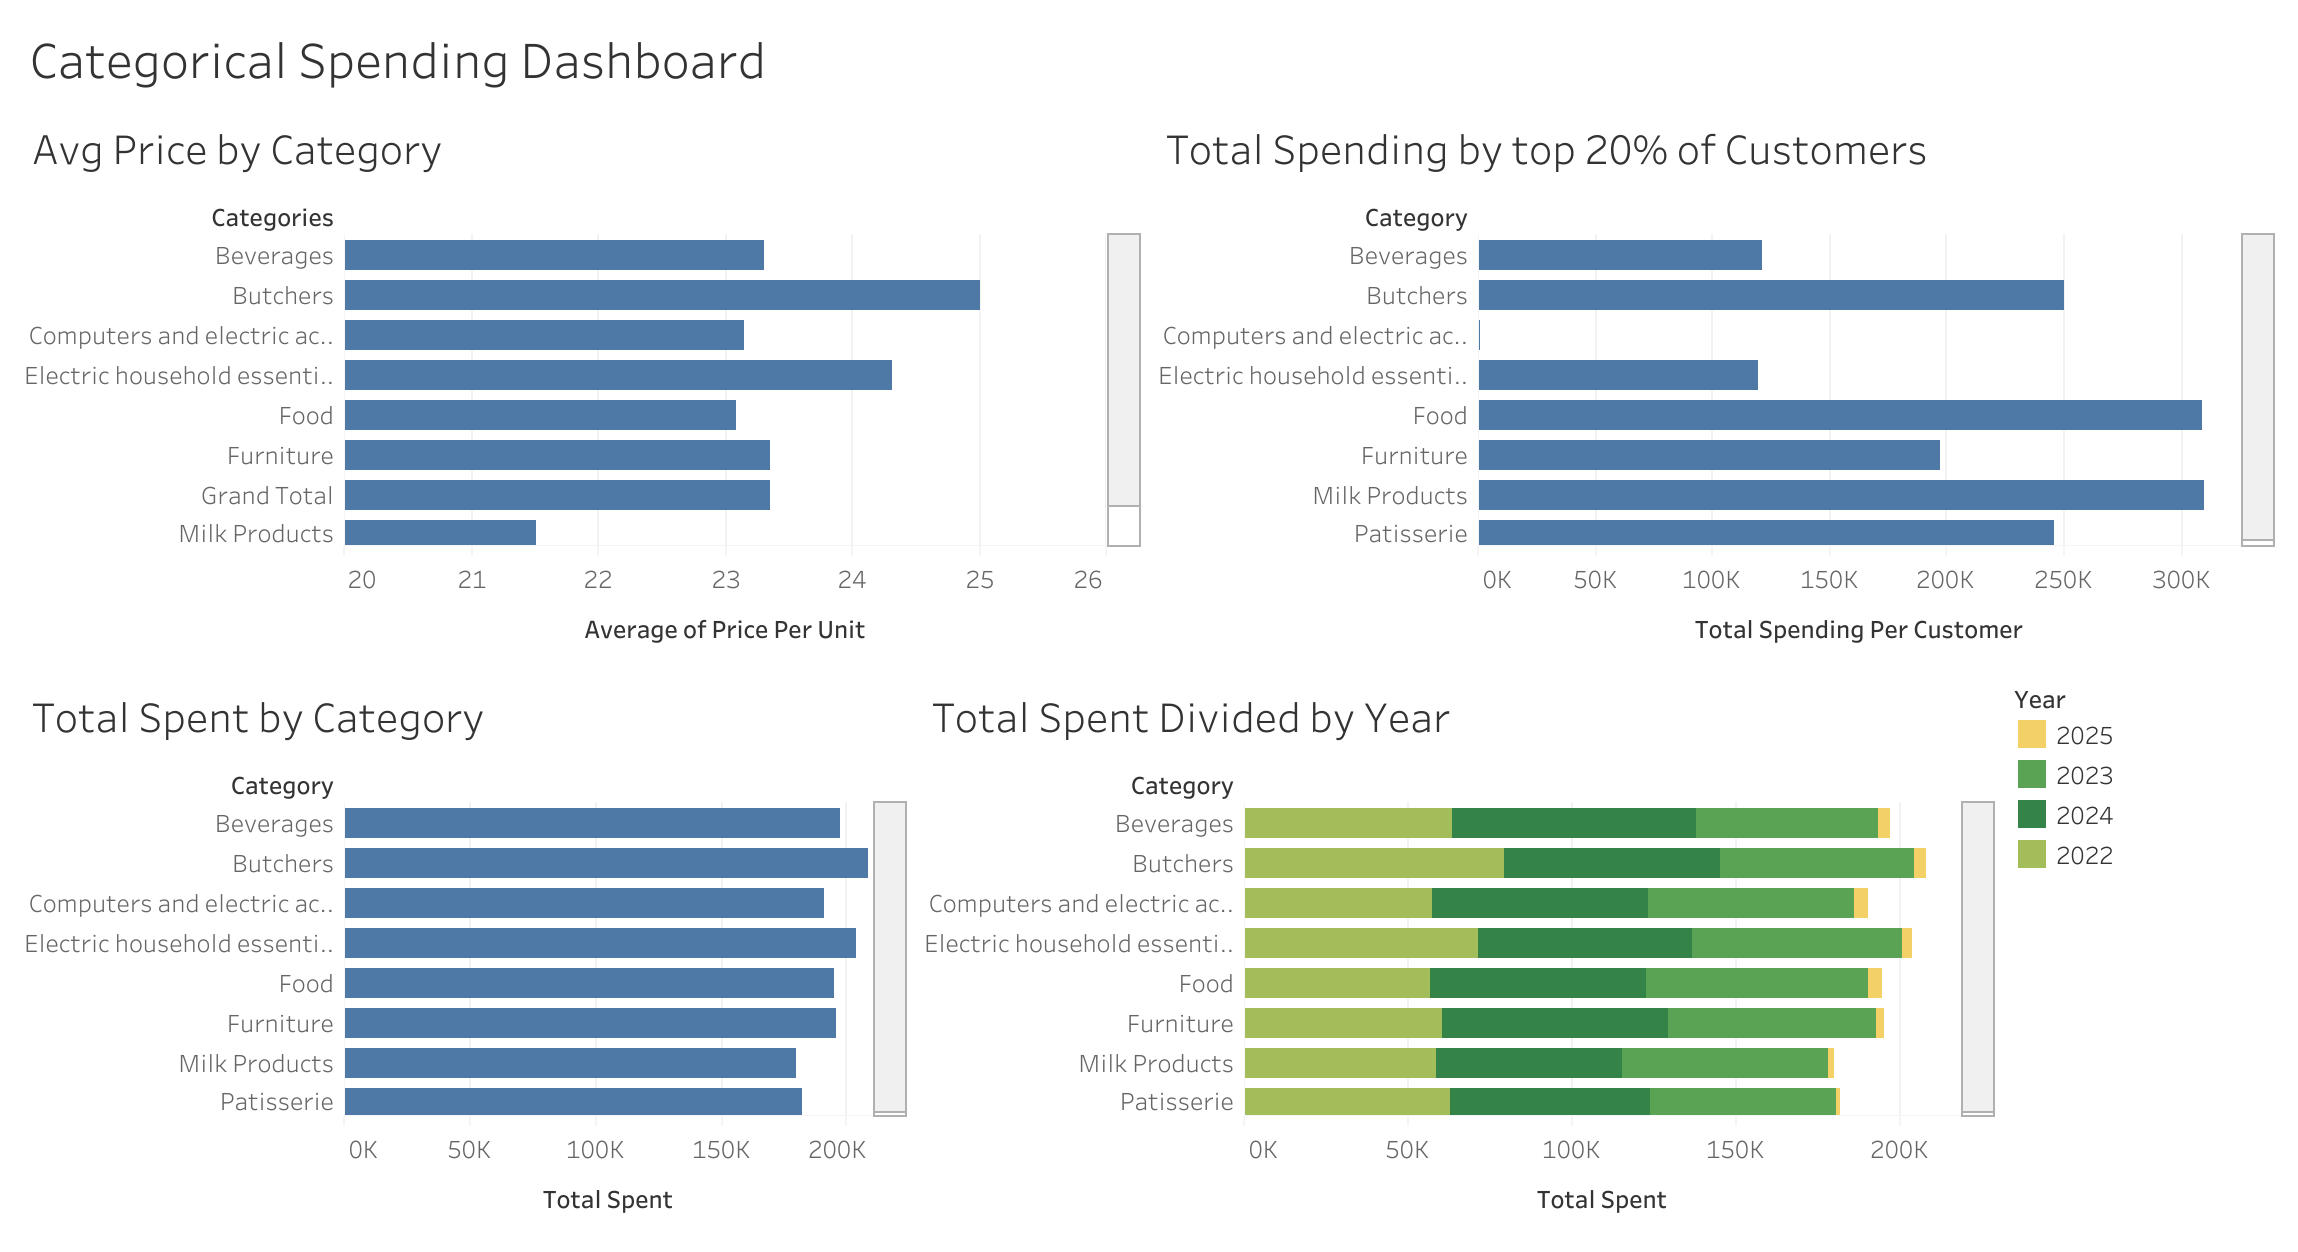

This screenshot's page, from the dashboard's own definition file:
{"tool":"tableau","page":{"name":"Categorical Spending Dashboard","canvas":[1000,1000],"units":"permille","ordinal":0},"visuals":[{"type":"title","box":[7,12,986.1,63.2]},{"type":"worksheet","title":"Avg Price by Category","mark":"Bar","rows":["Categories"],"cols":["Average of Price_Per_Unit"],"box":[7,75.2,492.9,456.4]},{"type":"worksheet","title":"Total Spending by top 20% of Customers","mark":"Automatic","rows":["Category"],"cols":["Total Spending Per Customer"],"box":[499.9,75.2,493.2,456.4]},{"type":"worksheet","title":"Total Spent by Category","mark":"Automatic","rows":["Category"],"cols":["Total_Spent"],"box":[7,531.6,391.5,456.4]},{"type":"worksheet","title":"Total Spent Divided by Year","mark":"Automatic","rows":["Category"],"cols":["Total_Spent"],"box":[398.5,531.6,472.8,456.4]},{"type":"legend","title":"Total Spent Divided by Year","param":"[federated.1qt9gdu0cjj4p00zulupw0crysj2].[none:Year:ok]","box":[871.3,531.6,121.7,456.4]}]}

Visuals, with their boxes on the dashboard's canvas, which has no fixed pixel size, in thousandths of its width and height (x1, y1, x2, y2). These are canvas units, not pixel positions in the 2298x1252 screenshot, which may show the page scaled, cropped or inside an application window:
title: bbox=[7, 12, 993, 75]
"Avg Price by Category" worksheet (Bar marks): bbox=[7, 75, 500, 532]
"Total Spending by top 20% of Customers" worksheet: bbox=[500, 75, 993, 532]
"Total Spent by Category" worksheet: bbox=[7, 532, 398, 988]
"Total Spent Divided by Year" worksheet: bbox=[398, 532, 871, 988]
"Total Spent Divided by Year" legend: bbox=[871, 532, 993, 988]
